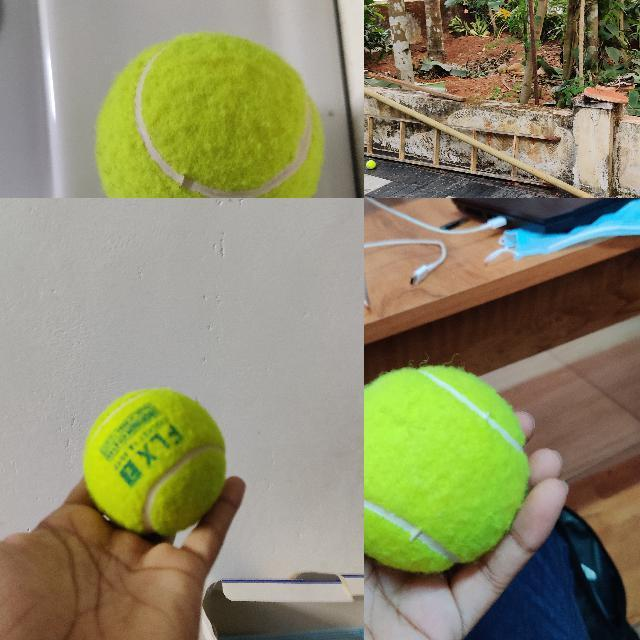tennis-ball: (92, 29, 327, 197), (364, 366, 527, 571), (82, 388, 226, 533), (365, 160, 375, 169)
